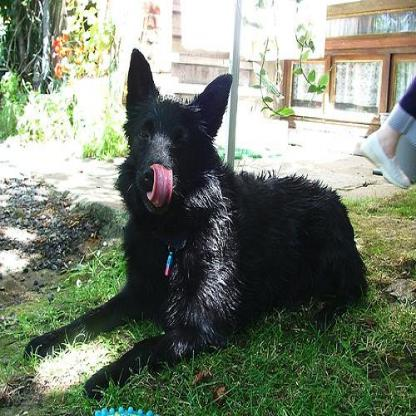schipperke: (22, 45, 372, 403)
